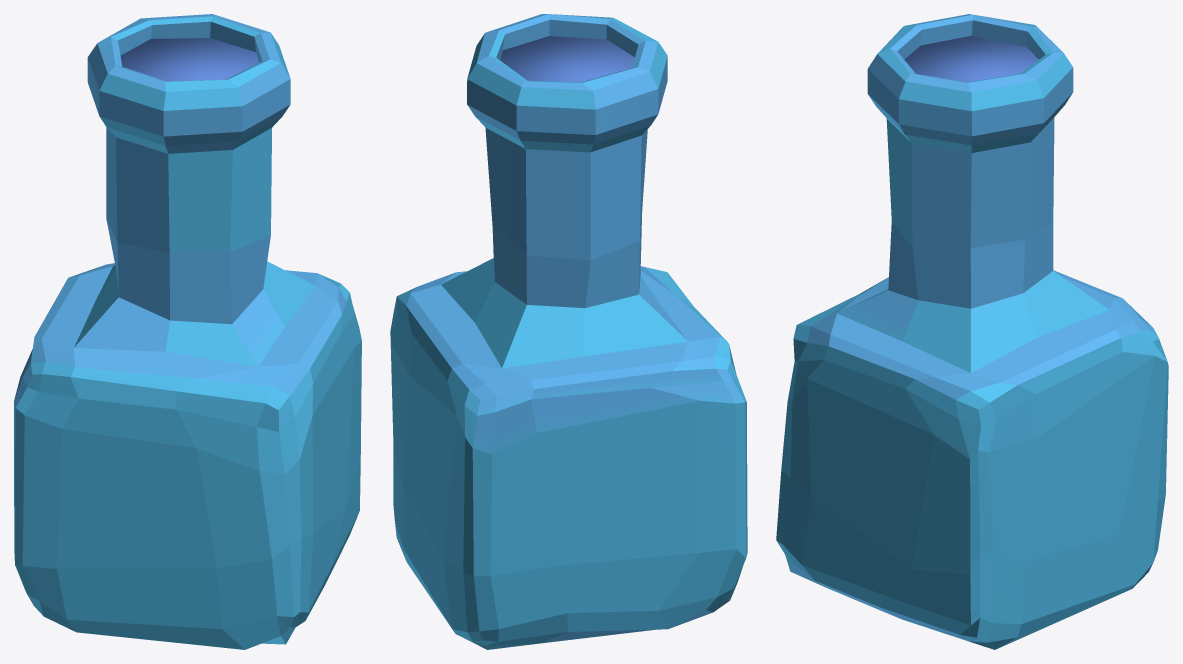
Rendered from bottel-01.fbx.
3 renders of one model, left to right at view 1: azimuth 30°, elevation 25°; view 2: azimuth 150°, elevation 25°; view 3: azimuth 270°, elevation 25°, orthographic.
Parts seen in each view (by area): view 1: Bottle, Bottle Contents; view 2: Bottle, Bottle Contents; view 3: Bottle, Bottle Contents.
Part boxes in pixels (x1,y1,x2,y2): Bottle: [14, 14, 361, 649]; Bottle Contents: [120, 38, 258, 81]; Bottle: [390, 14, 747, 649]; Bottle Contents: [500, 36, 634, 82]; Bottle: [776, 14, 1168, 649]; Bottle Contents: [904, 35, 1038, 82].
Size of the model in its own units: 23.55 by 34.66 by 23.25.
